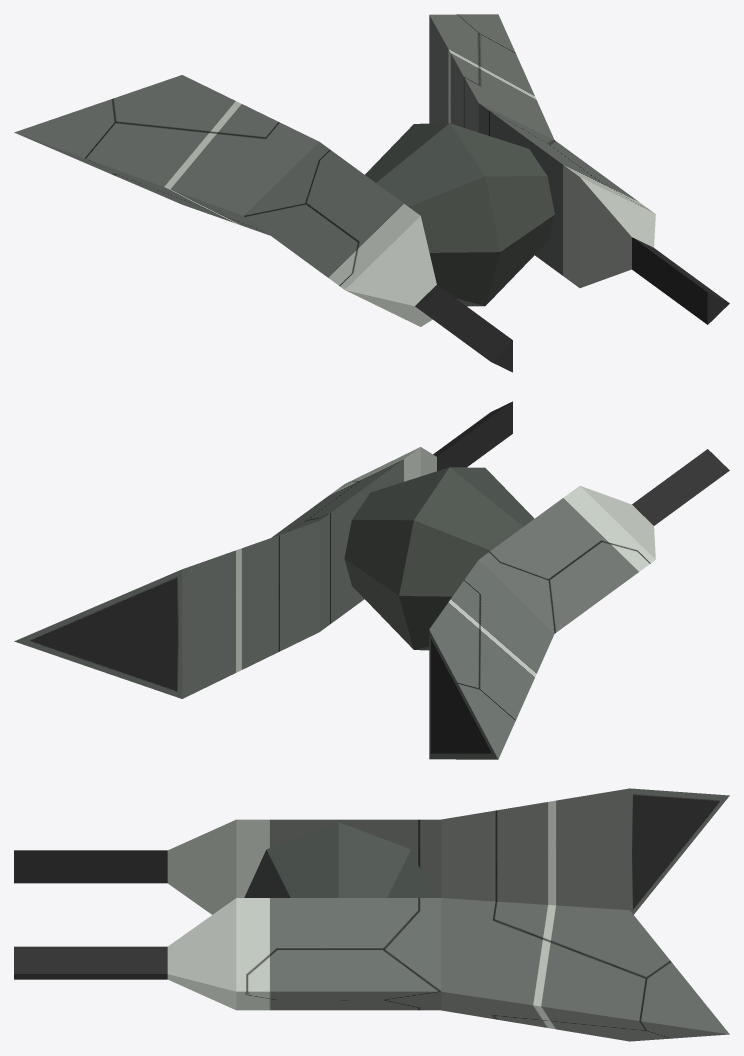
File: Enemy2.obj
3 views of the same model, one above another, from view 1: azimuth 30°, elevation 25°; view 2: azimuth 150°, elevation 25°; view 3: azimuth 270°, elevation 25° (orthographic).
Visible parts, largest first — view 1: Enemy2_Sphere; view 2: Enemy2_Sphere; view 3: Enemy2_Sphere.
Part boxes in pixels (bbox=[...]): Enemy2_Sphere: bbox=[14, 14, 729, 372]; Enemy2_Sphere: bbox=[14, 401, 729, 759]; Enemy2_Sphere: bbox=[14, 788, 729, 1041].
Size of the model in its own units: 5.52 by 2 by 6.99.
1 material, 1 textured.
